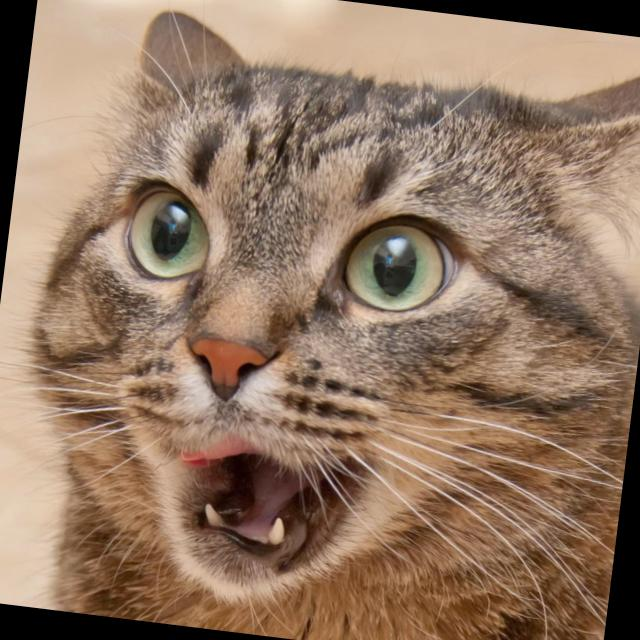Surprised: (48, 142, 500, 632)
